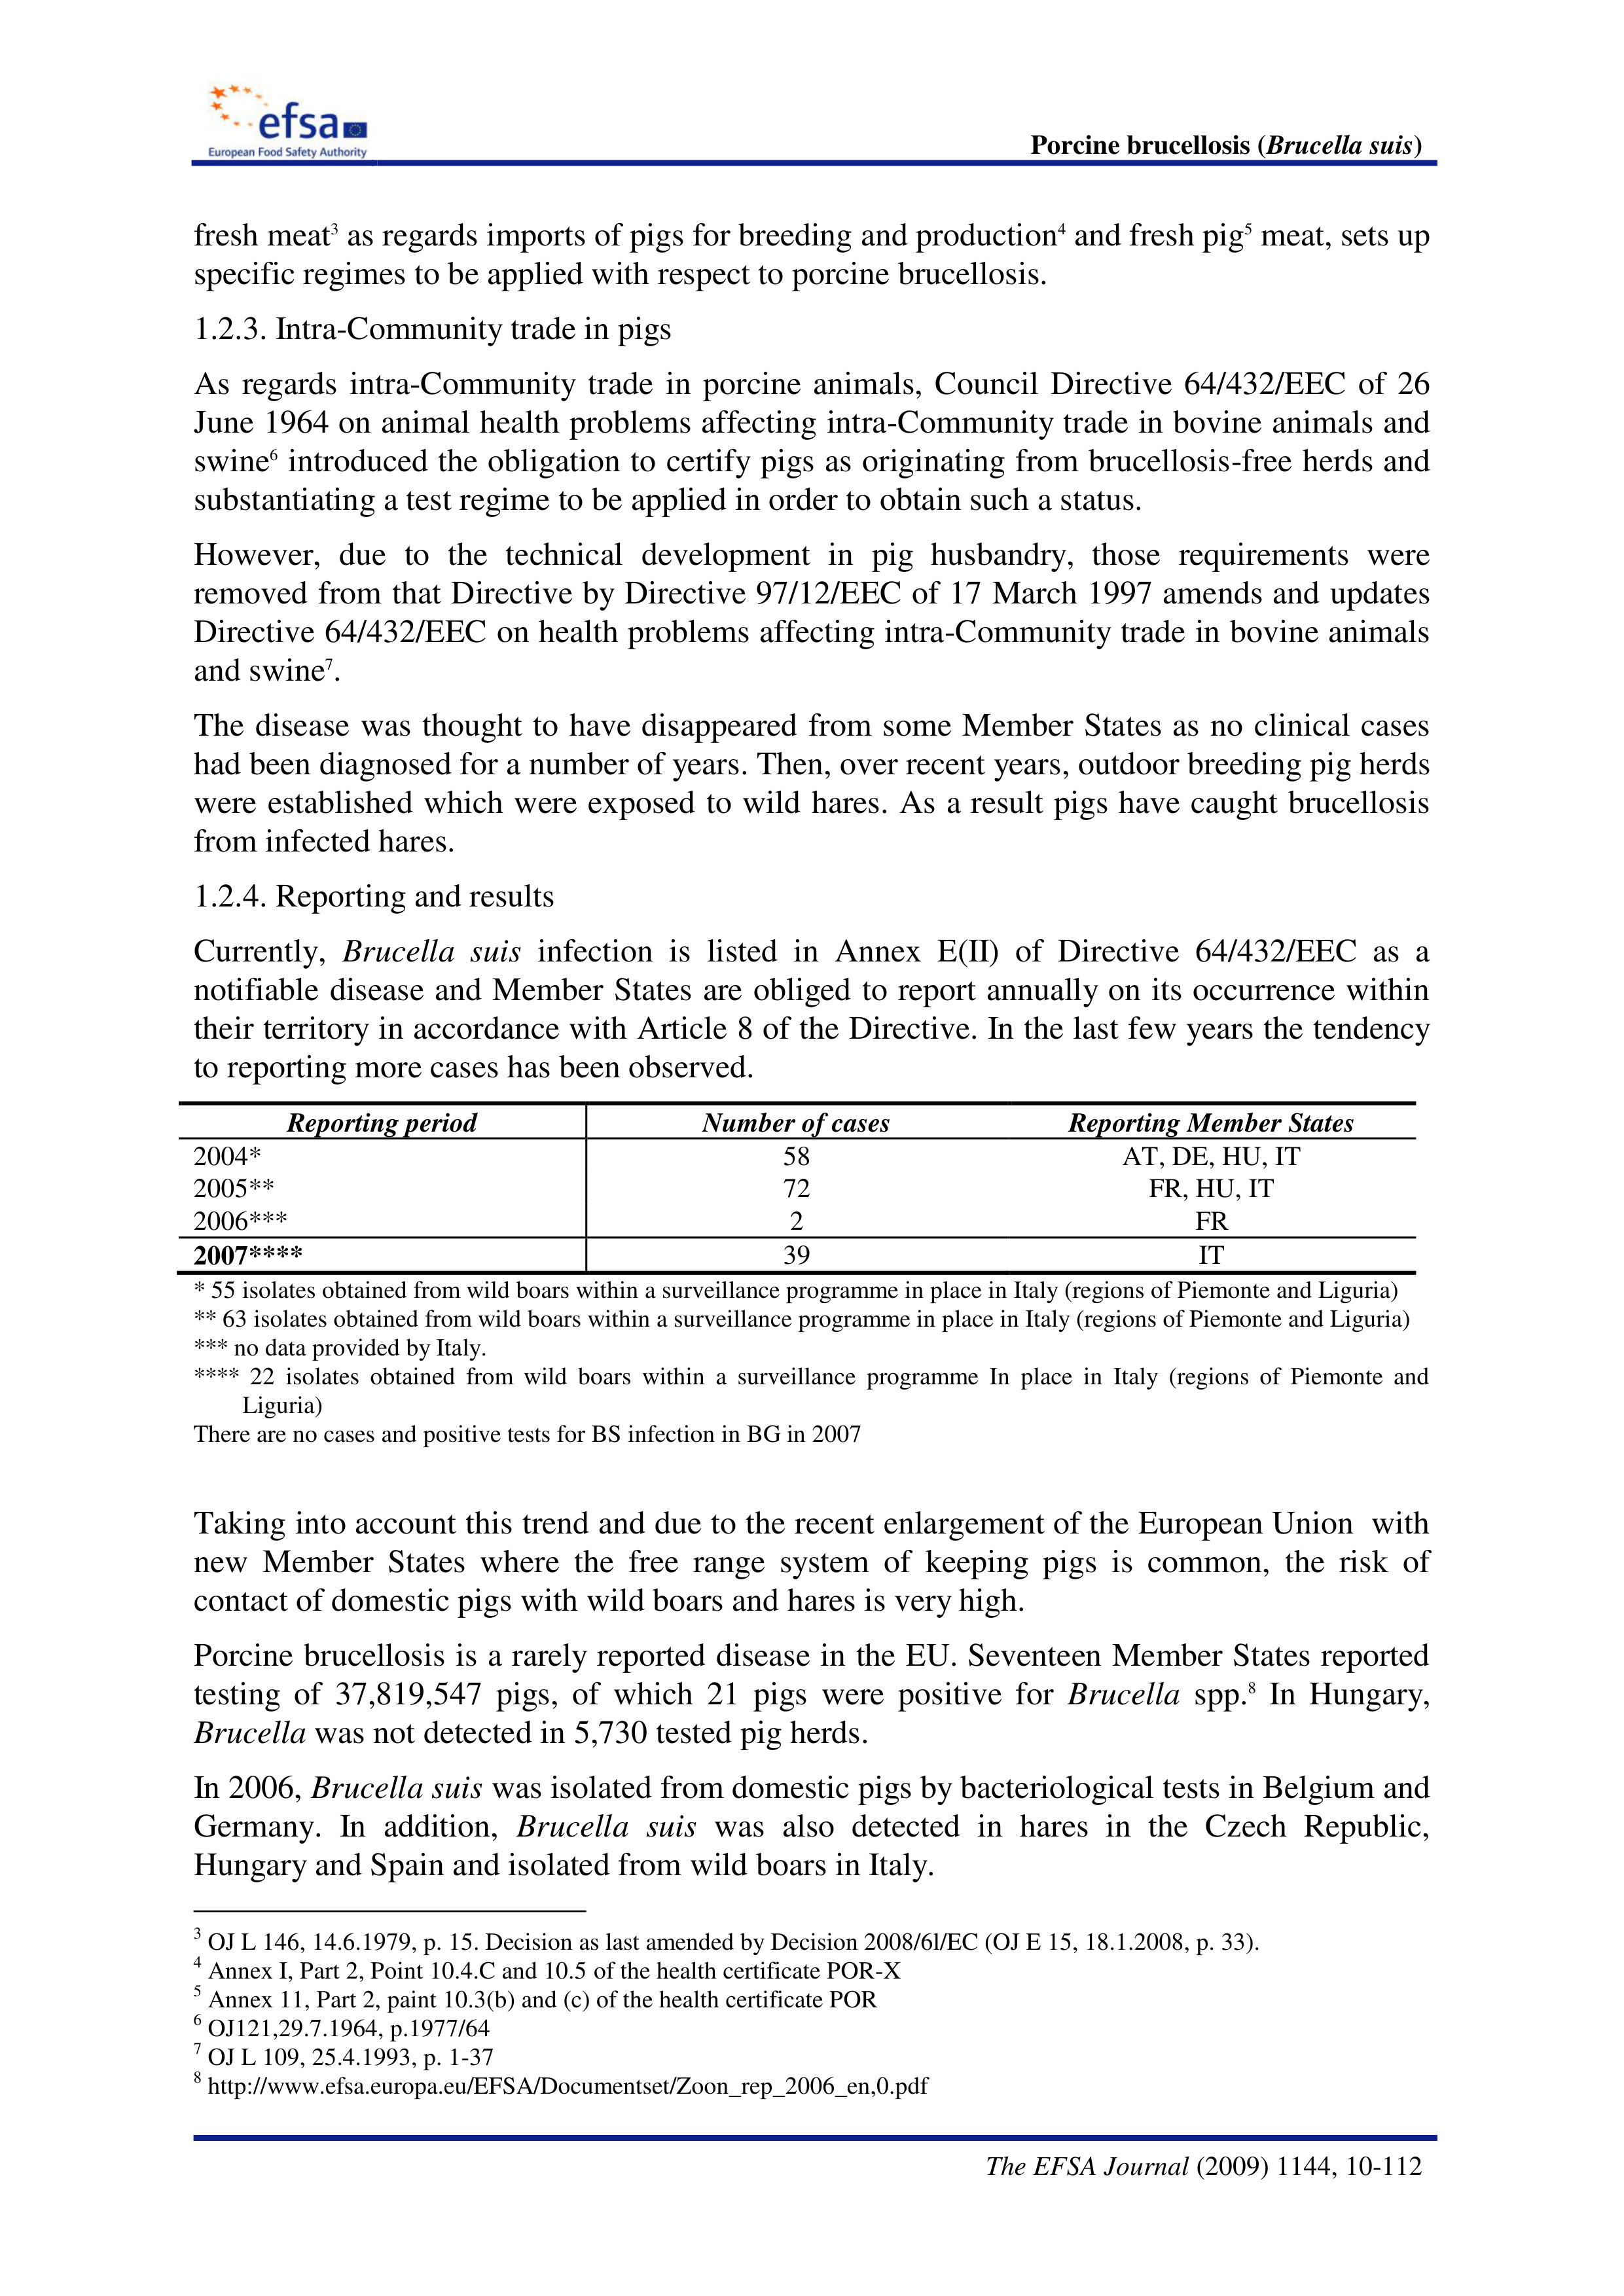table: (193, 1105, 1355, 1274)
